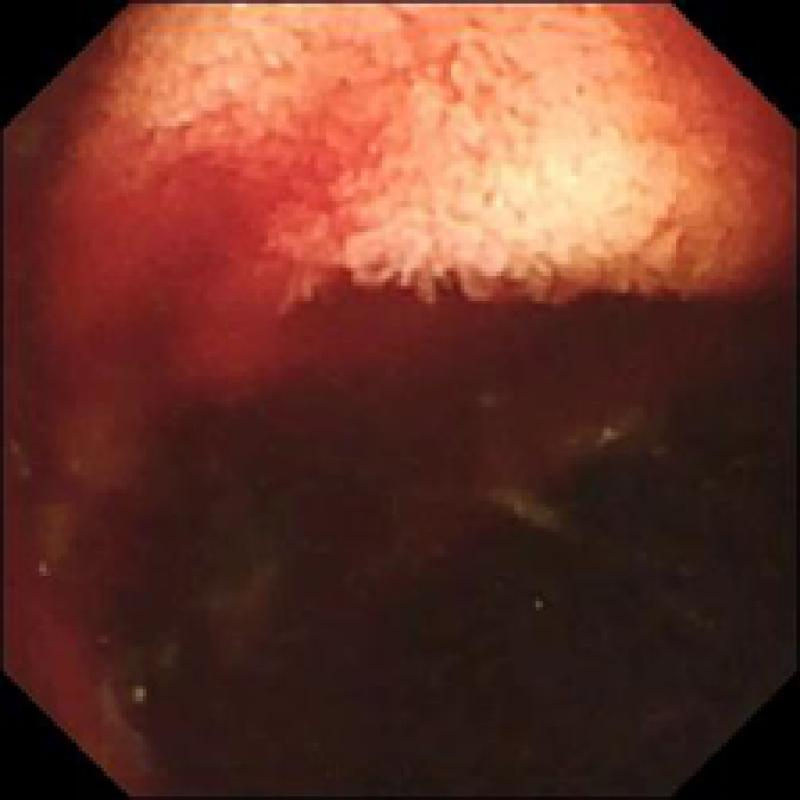bleeding: (0, 107, 518, 761)
